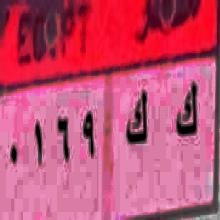0: (8, 138, 20, 174)
1: (31, 114, 47, 169)
6: (55, 110, 72, 168)
9: (82, 107, 95, 167)
kaaf: (173, 72, 200, 152), (124, 84, 150, 162)
